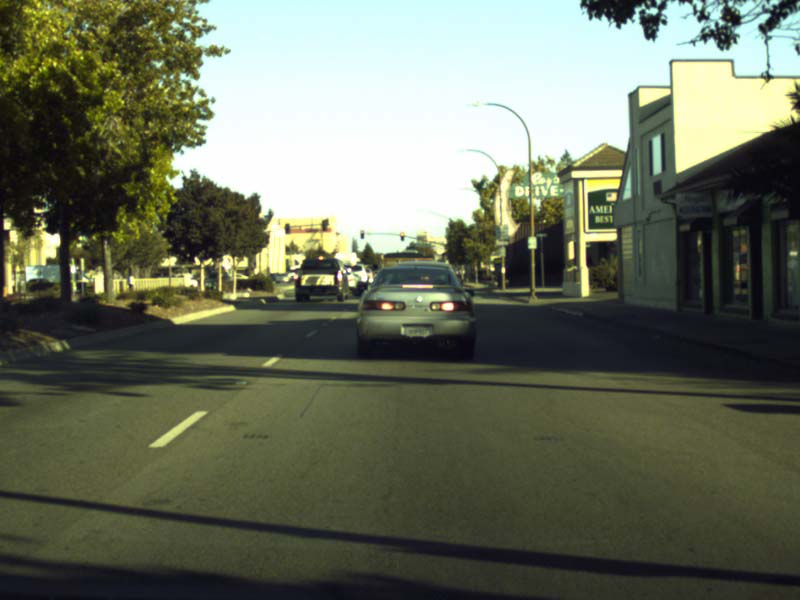Red: (399, 231, 404, 241), (360, 231, 363, 238)
